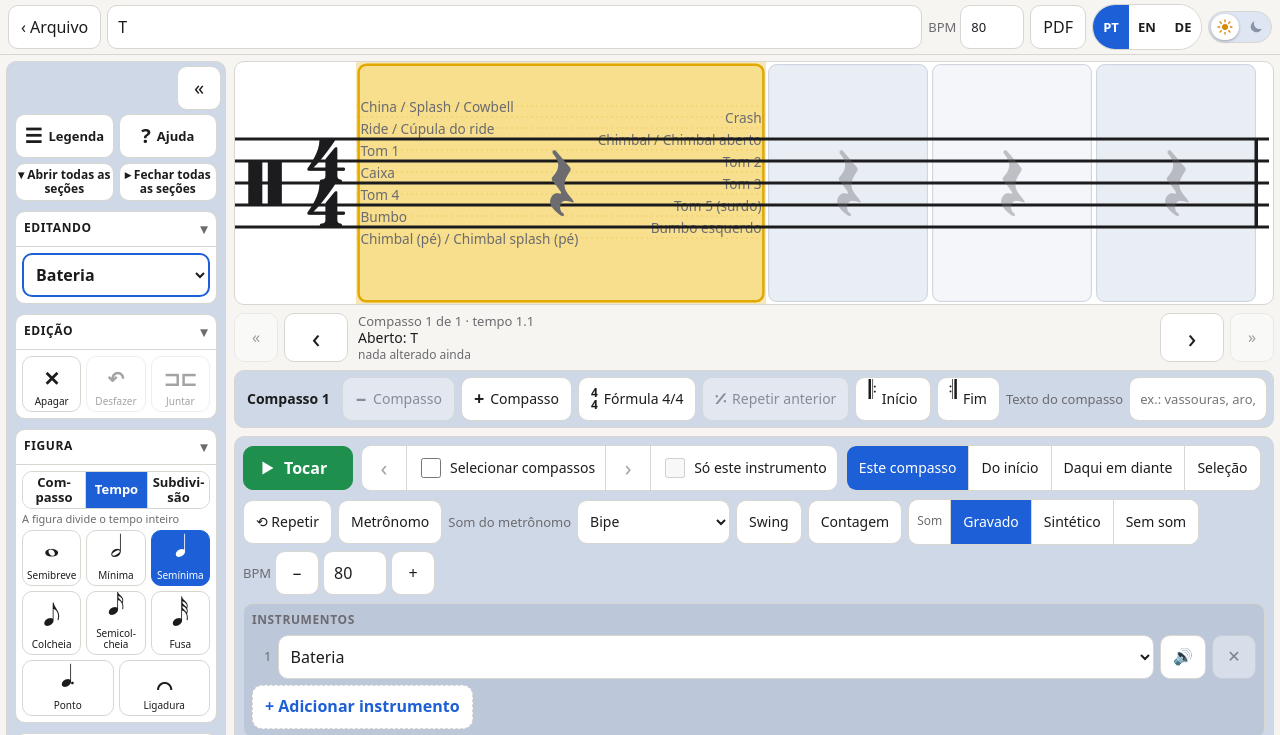
Editor › time signature picker changes the current bar
Click the button with aria-label "Mudar a fórmula de compasso deste compasso".
click(637, 399)  # box left=578, top=377, right=696, bottom=421
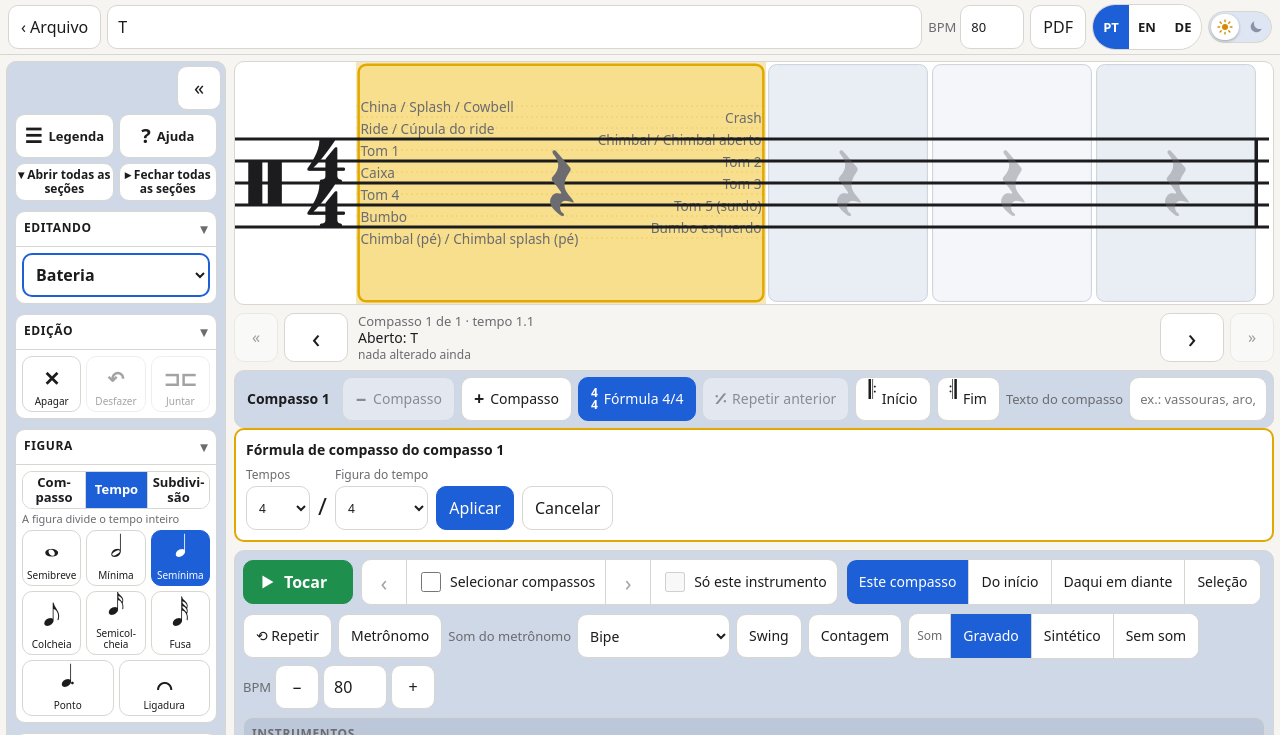
Select "3" in the dropdown labelled "Tempos" at (278, 508), box left=246, top=486, right=310, bottom=530
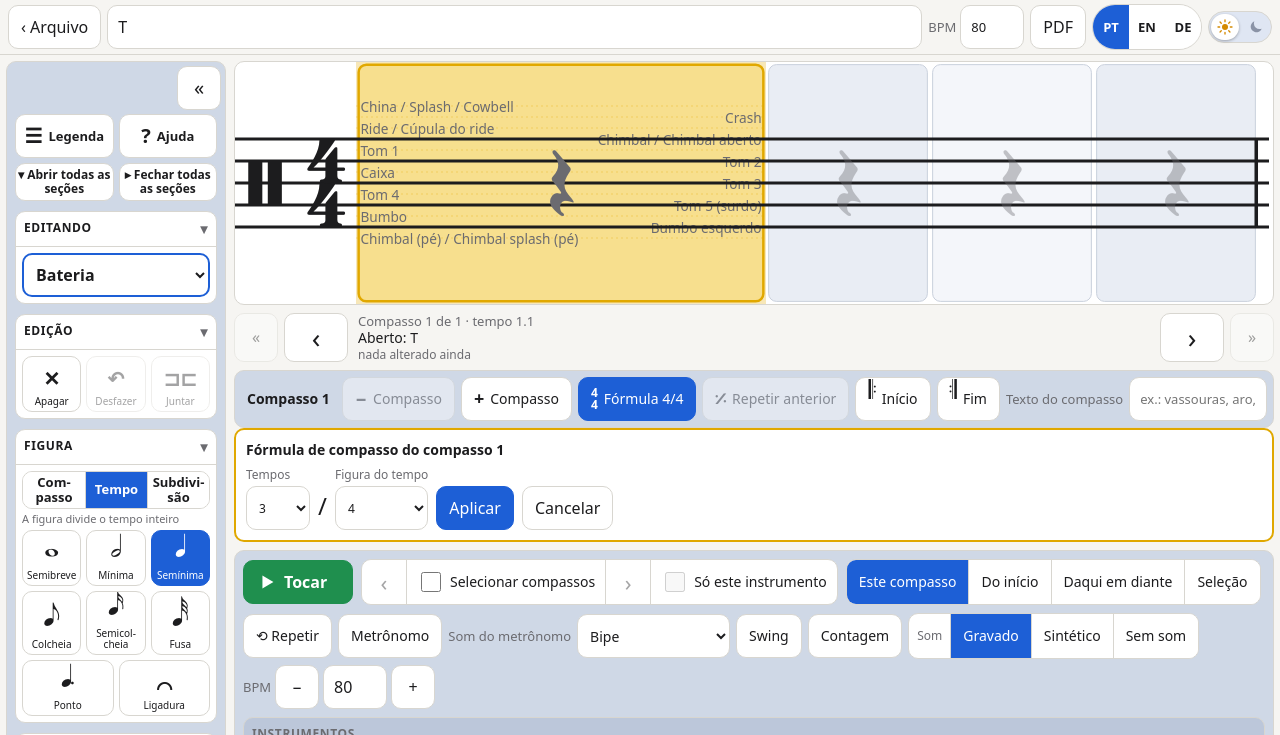
Click the button "Aplicar".
click(475, 508)  # box left=436, top=486, right=514, bottom=530
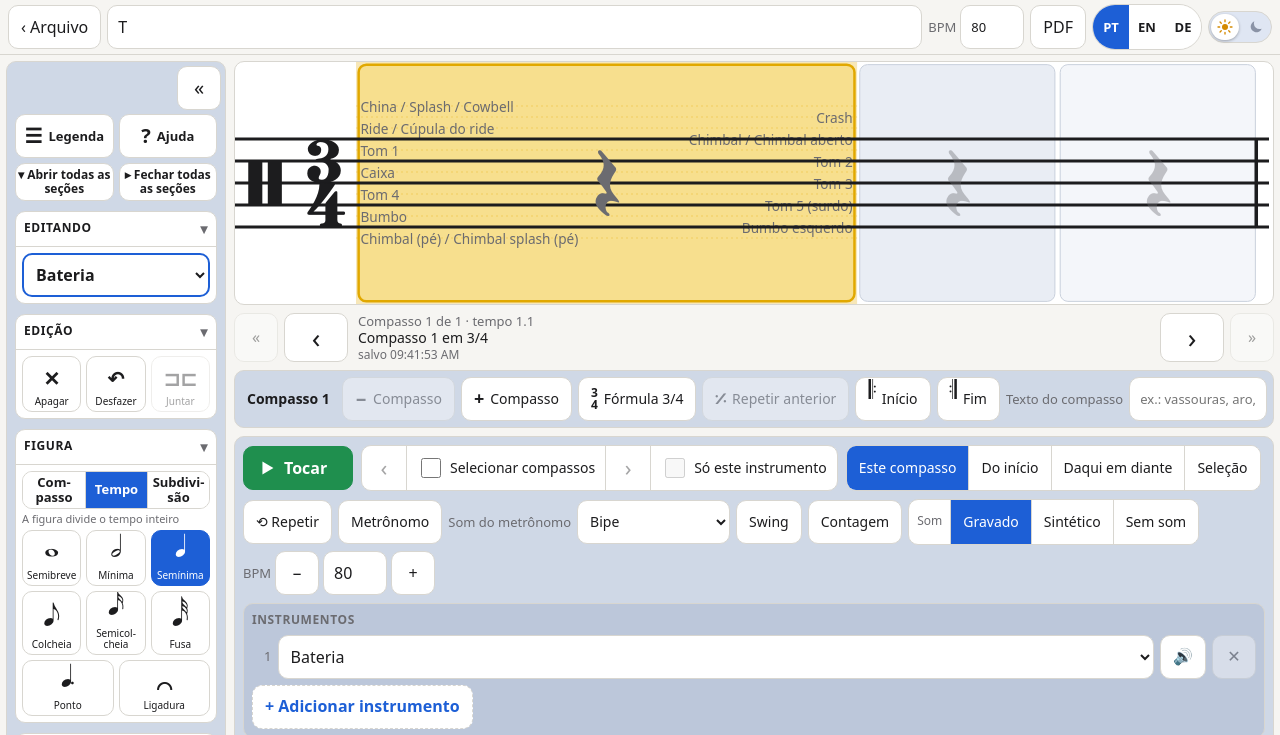
Expected: the element with class "status" shows "3/4", left=358, top=328, right=488, bottom=347
